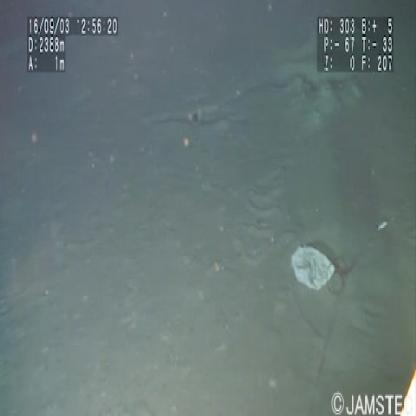Rác: (288, 240, 341, 296)
